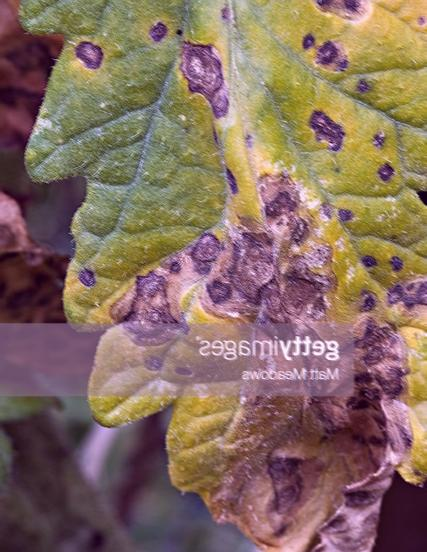Tomato Septoria leaf spot: (20, 0, 427, 552)
